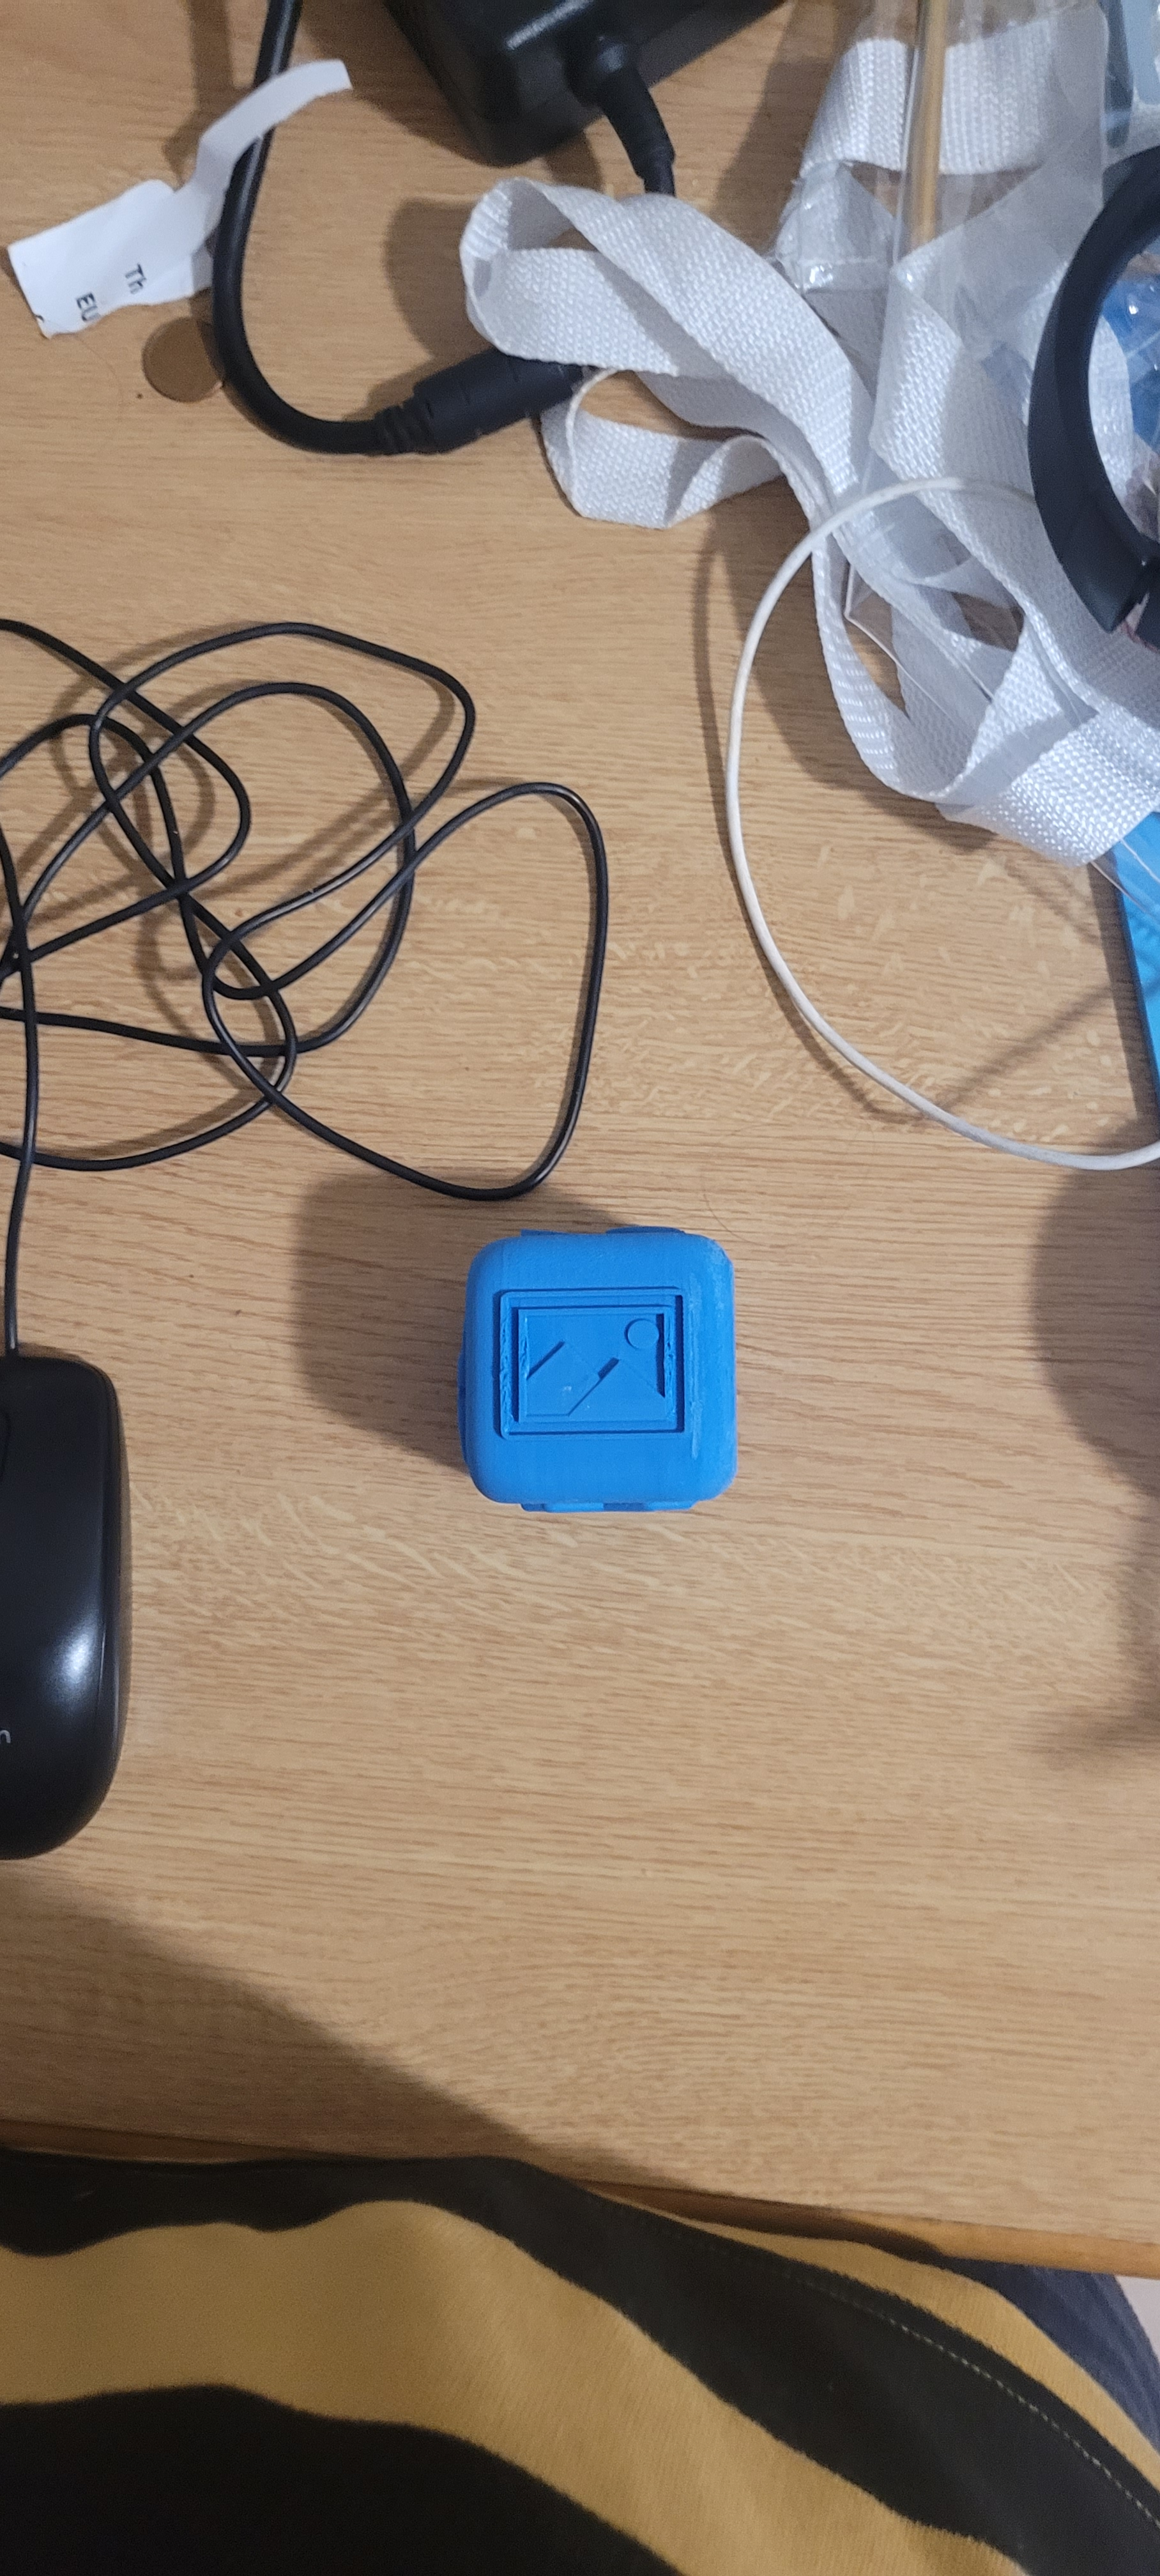Story: (480, 1252, 731, 1477)
